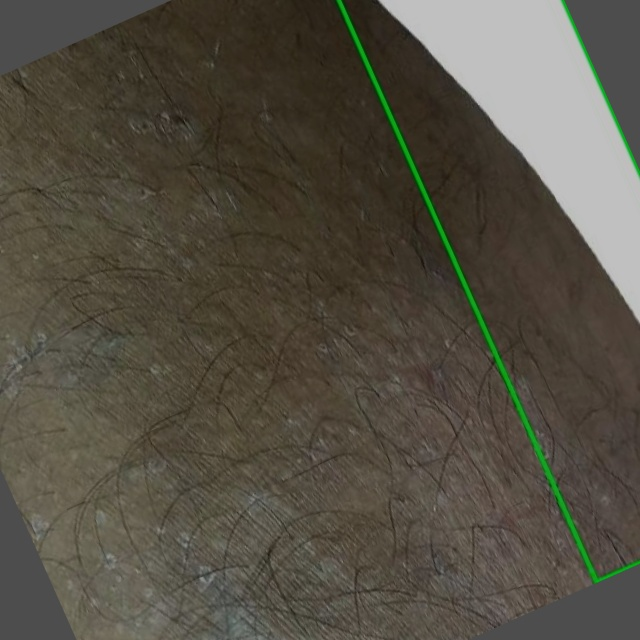Contact Dermatitis: (339, 0, 639, 582)
